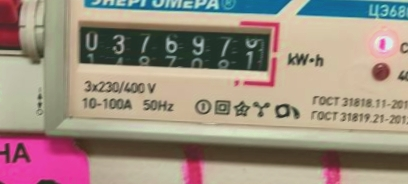0: (83, 29, 99, 52)
1: (244, 49, 253, 71)
3: (111, 33, 125, 54)
6: (163, 30, 179, 54)
7: (137, 31, 152, 54), (217, 33, 232, 56)
9: (190, 33, 205, 56)
screen: (66, 12, 282, 90)
